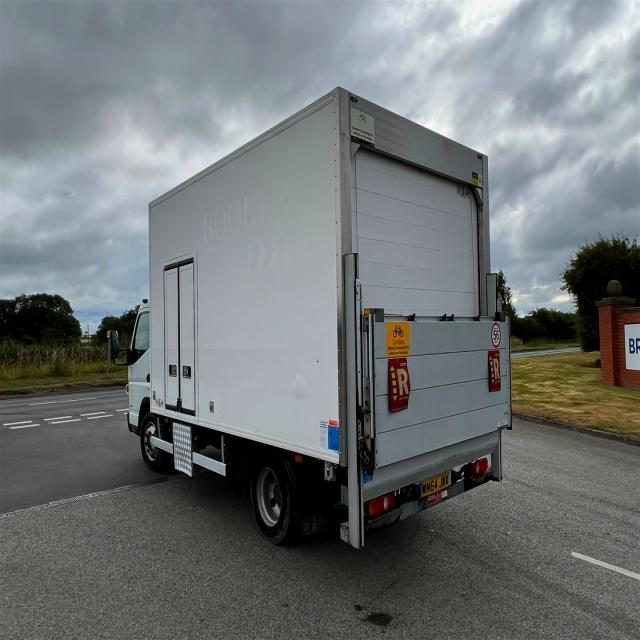truck: (107, 86, 513, 552)
